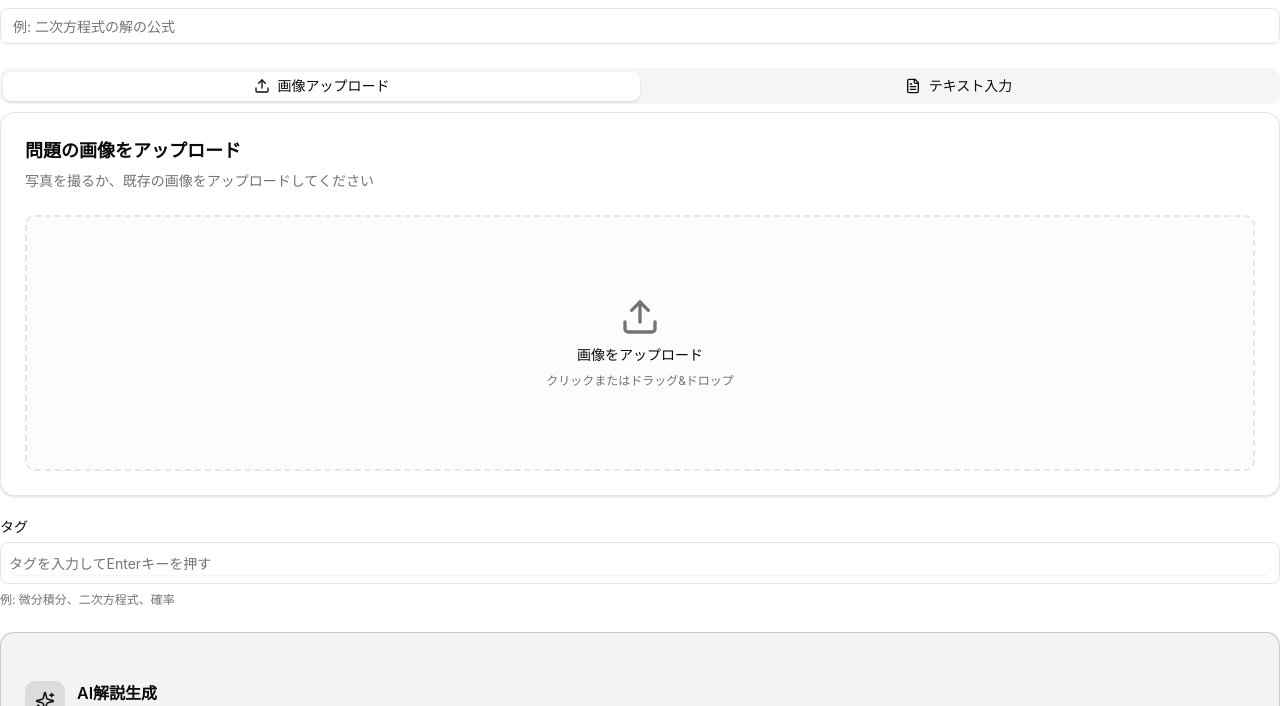
Test case: UploadForm › enables submit button when title is entered
The image size is (1280, 706).
Type "微分方程式の問題" into the field labelled "問題のタイトル" at (640, 26), box [0,8,1279,44]
(page scrolled)
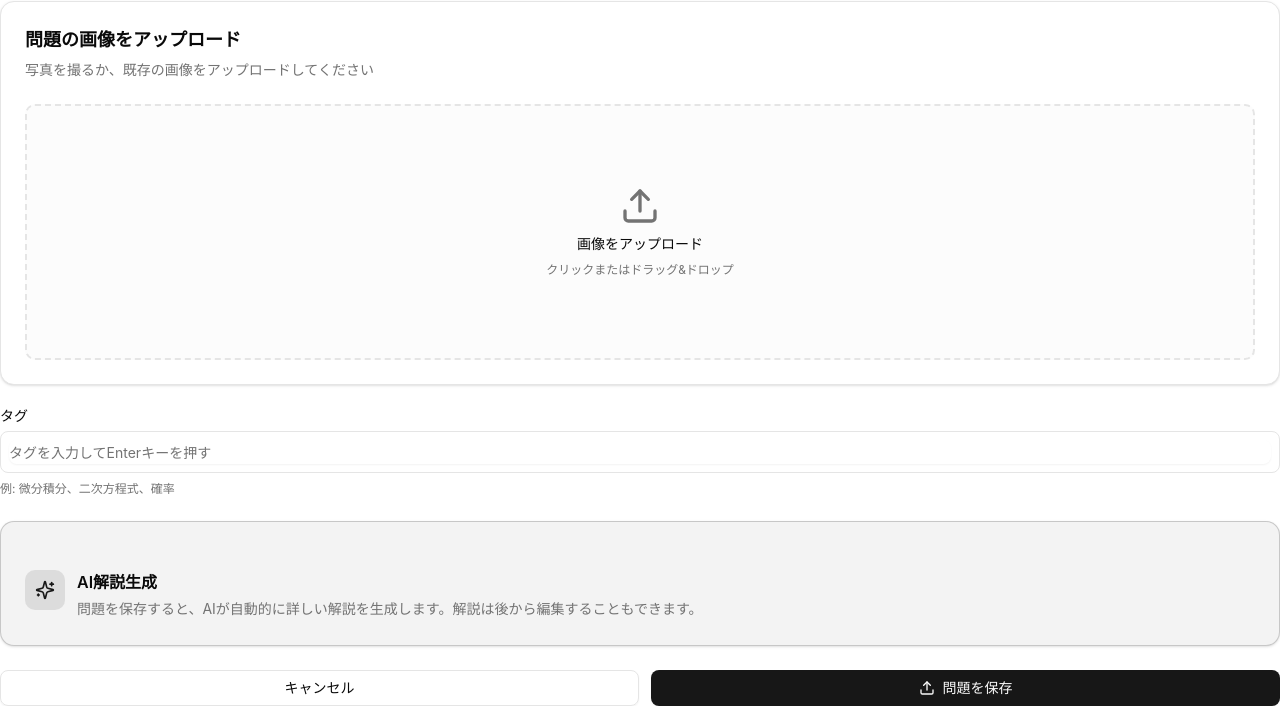
Check: the button "問題を保存" is enabled, box [651,670,1279,705]
